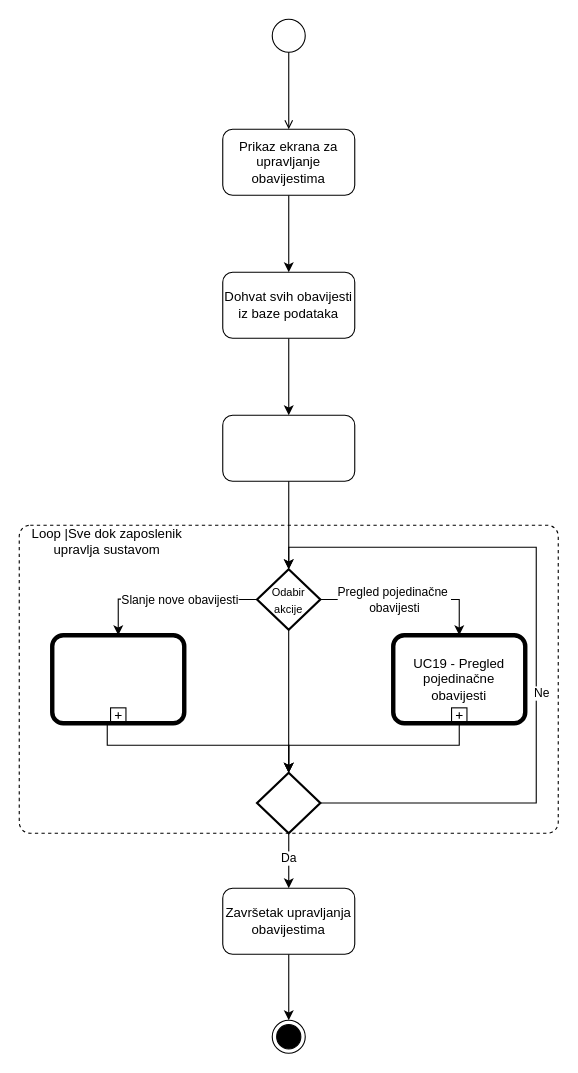
This 578x1073 diagram has some shape labels left out. Here are the shapes that lost their labels. From the top down, the centre of each, then its label:
At [288,447]: "Prikaz liste svih obavijesti".
At [117,678]: "UC18 - Slanje nove obavijesti".
At [288,802]: "Kraj upravljanja".
